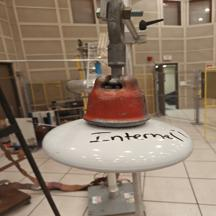insulator: (27, 67, 200, 180)
